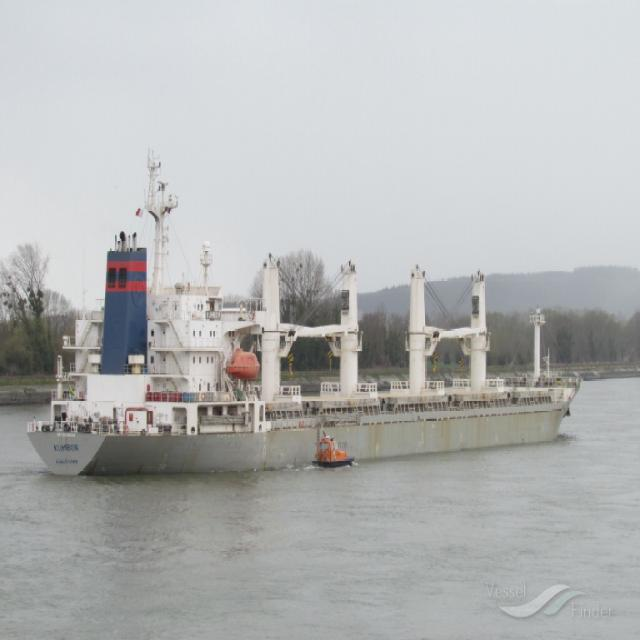OCR: (50, 439, 80, 470)
